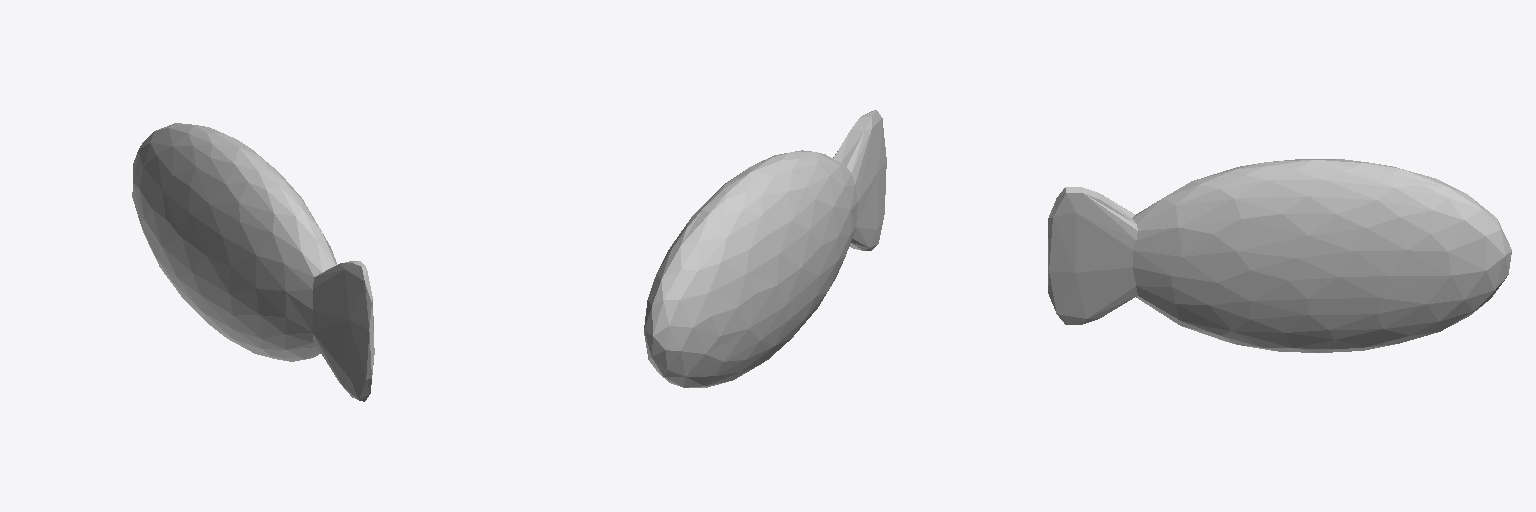
The model's file is fish.obj.
3 renders of one model, left to right at view 1: azimuth 30°, elevation 25°; view 2: azimuth 150°, elevation 25°; view 3: azimuth 270°, elevation 25°, orthographic.
Visible parts, largest first — view 1: Sphere; view 2: Sphere; view 3: Sphere.
Boxes of the visible parts, <box> form: Sphere: <box>132,123,374,401</box>; Sphere: <box>644,110,886,387</box>; Sphere: <box>1048,159,1511,352</box>.
Size of the model in its own units: 0.2524 by 0.5557 by 1.21.